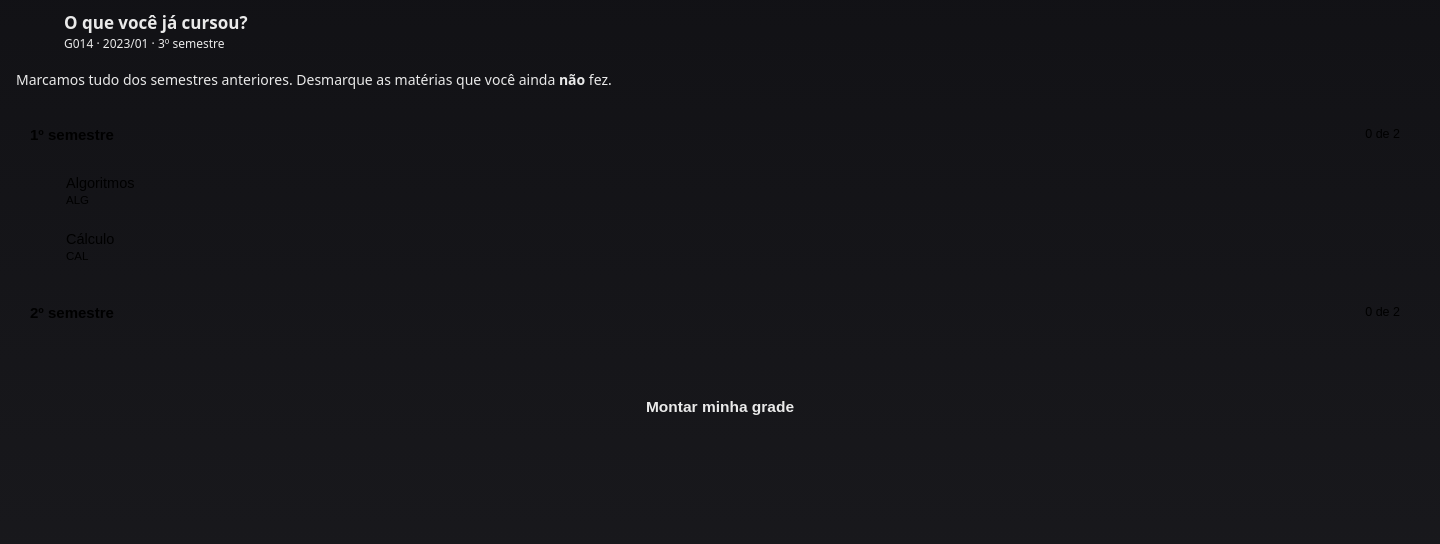
Test: marcar sem o pré-requisito forte não marca e explica
Click the button "2º semestre 0 de 2" at [76, 312], box left=16, top=284, right=1424, bottom=340
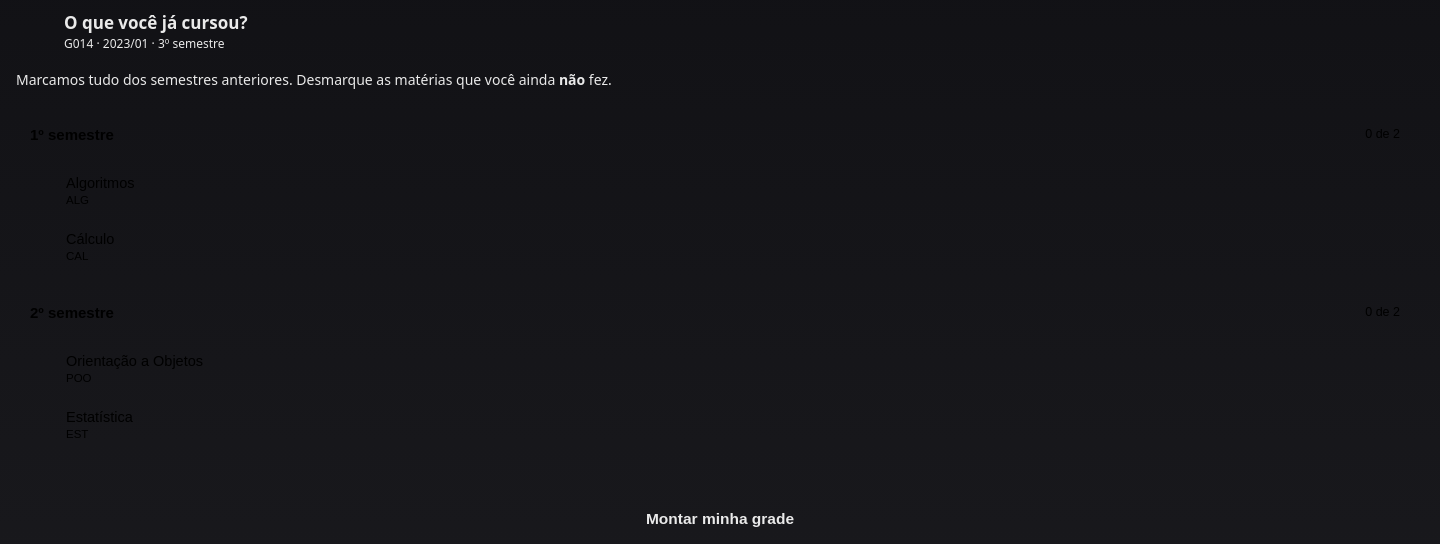
Click the checkbox labelled "Orientação a Objetos POO" at [135, 361], box left=16, top=340, right=1424, bottom=396
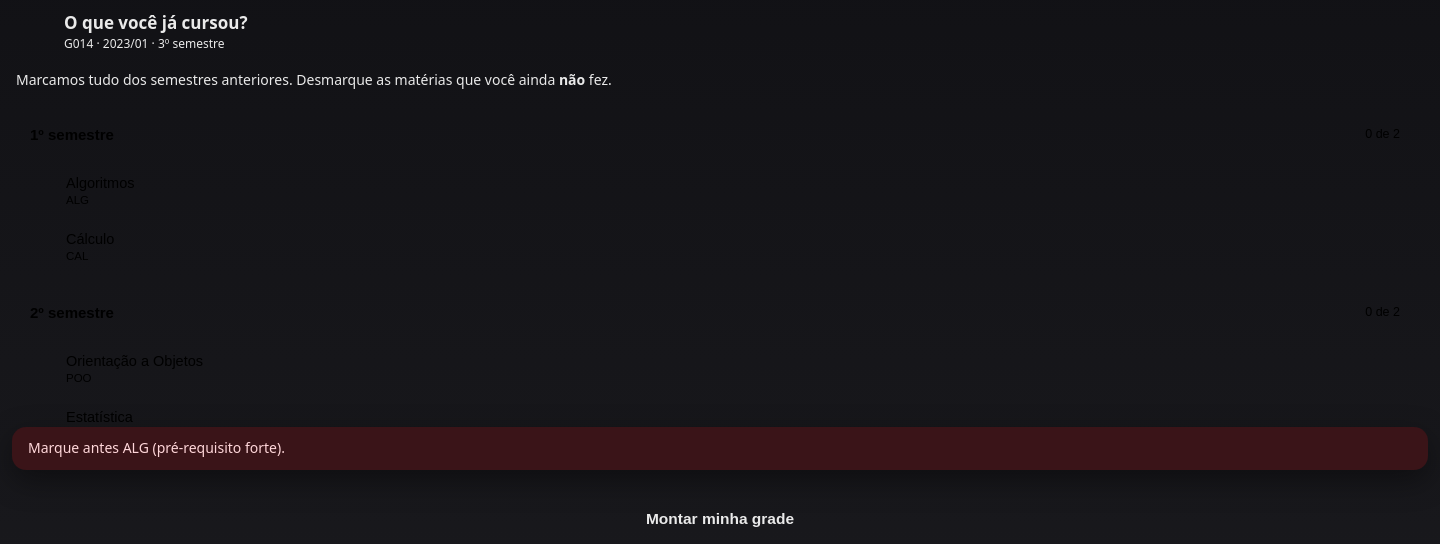
Now the message shows "Marque antes ALG (pré-requisito forte)", box left=28, top=438, right=285, bottom=457
